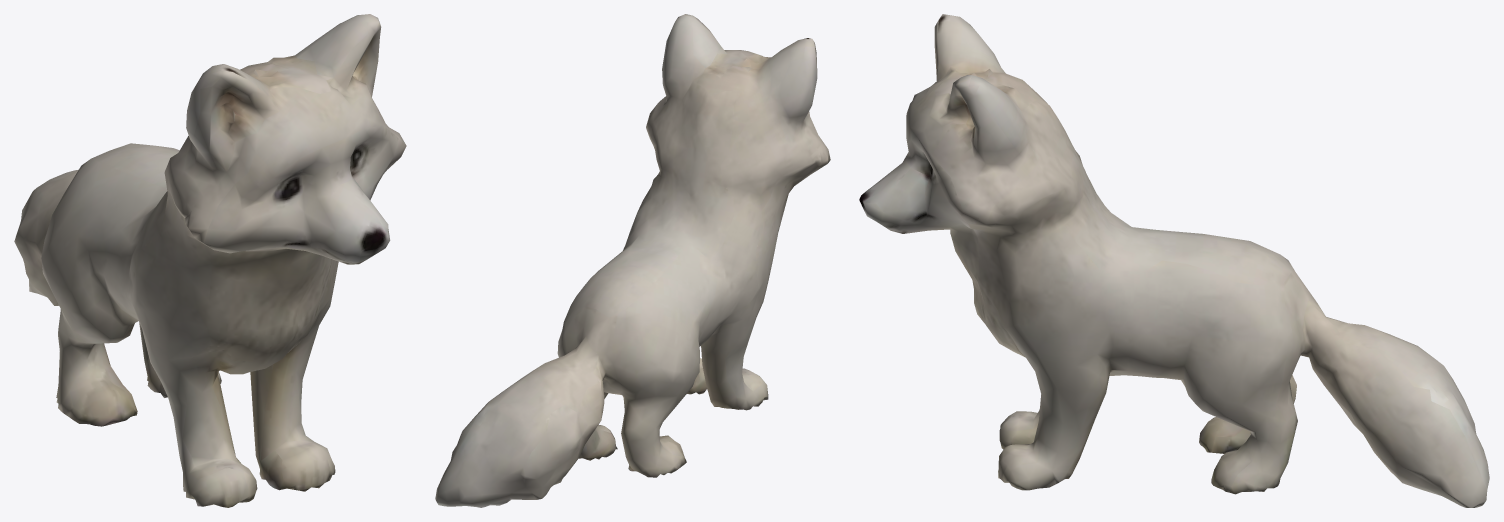
File: mob_arctic_fox.glb
The picture shows the model from 3 angles, left to right: view 1: azimuth 30°, elevation 25°; view 2: azimuth 150°, elevation 25°; view 3: azimuth 270°, elevation 25°; orthographic projection. The views are drawn at different scales.
Parts seen in each view (by area): view 1: geometry_0; view 2: geometry_0; view 3: geometry_0.
Boxes of the visible parts, x1,y1,x2,y2 form: geometry_0: [14, 14, 406, 507]; geometry_0: [435, 14, 830, 507]; geometry_0: [859, 14, 1489, 507].
Size of the model in its own units: 0.5311 by 1 by 1.38.
Materials: 1 (1 with a texture image).
